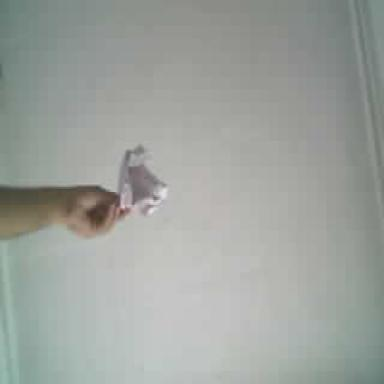paper: (118, 146, 167, 215)
